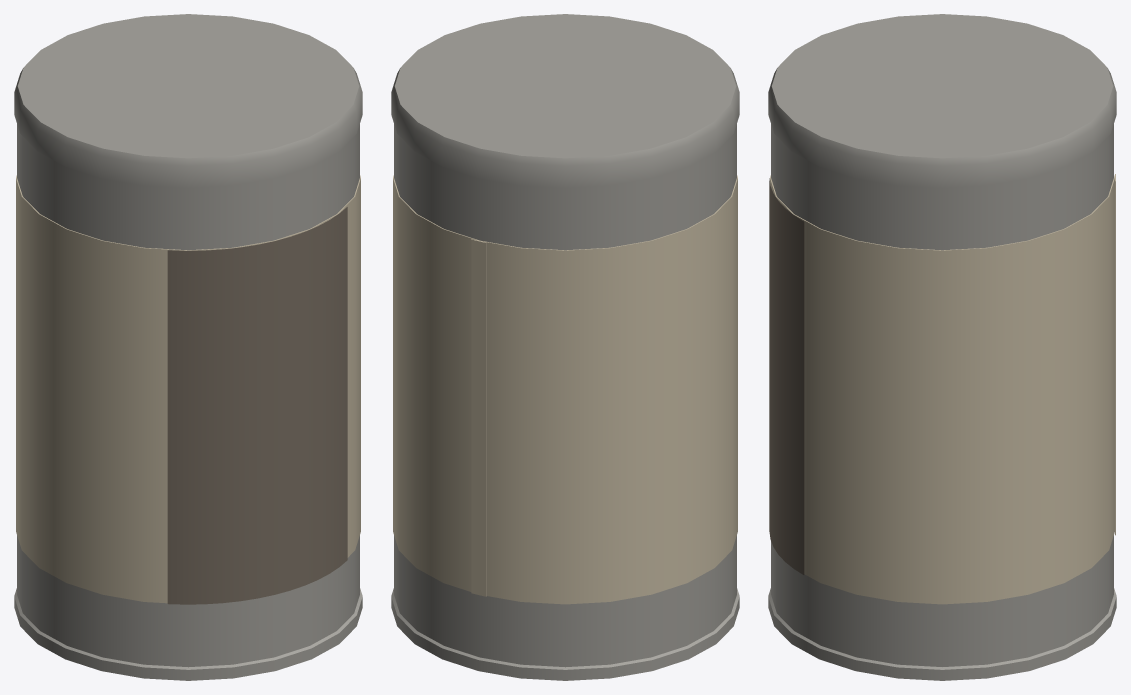
The model's file is coffee-creamer-tin-4735b0a85c85.glb.
3 views of the same model, side by side, from view 1: azimuth 30°, elevation 25°; view 2: azimuth 150°, elevation 25°; view 3: azimuth 270°, elevation 25° (orthographic).
Parts seen in each view (by area): view 1: brushed, cover-print, paper; view 2: paper, brushed; view 3: paper, brushed, cover-print.
Part boxes in pixels (x1,y1,x2,y2): brushed: (14, 14, 362, 680); cover-print: (167, 207, 347, 604); paper: (16, 175, 360, 603); paper: (393, 175, 737, 604); brushed: (391, 14, 739, 680); paper: (770, 174, 1115, 604); brushed: (768, 14, 1116, 680); cover-print: (769, 178, 804, 574).
Bounding box in the file's own units: 0.1 × 0.165 × 0.1.
